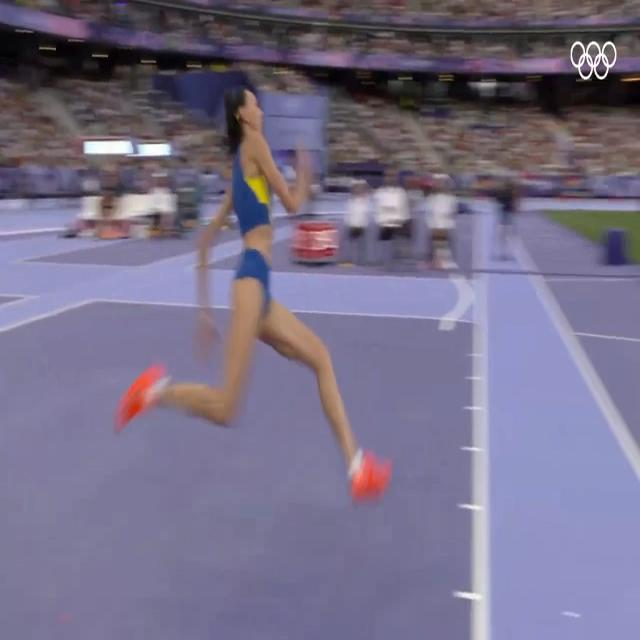run: (119, 91, 391, 505)
